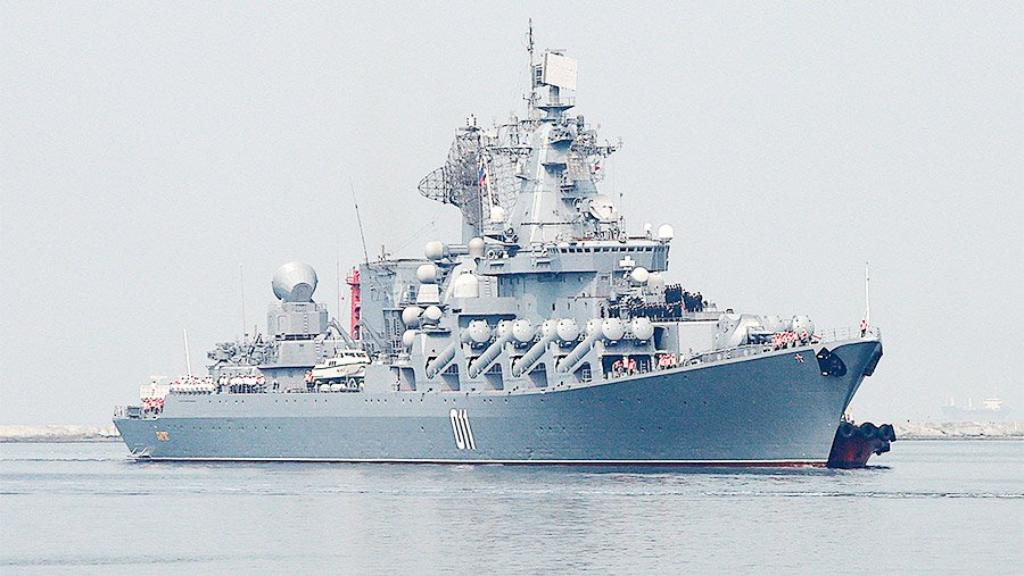Warship: (100, 36, 910, 484)
